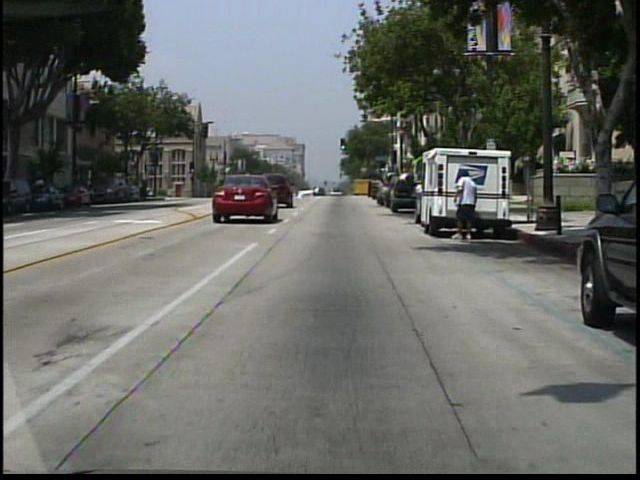person: (450, 168, 483, 242), (383, 172, 384, 211)
